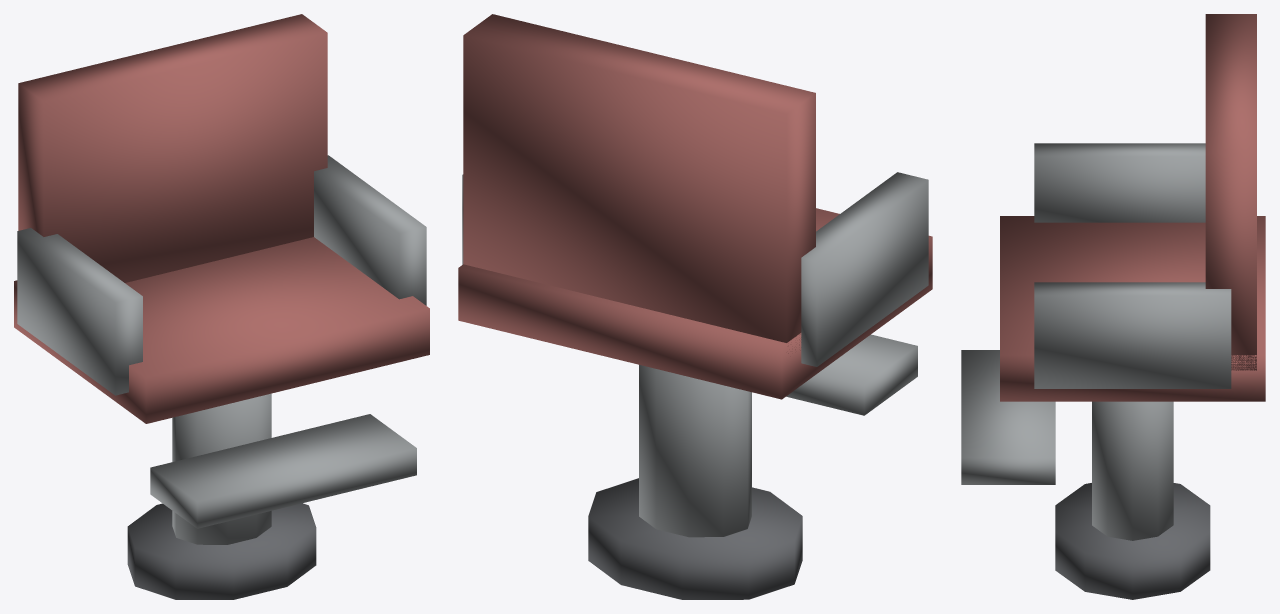
Rendered from barber_chair__wide.glb.
3 renders of one model, left to right at view 1: azimuth 30°, elevation 25°; view 2: azimuth 150°, elevation 25°; view 3: azimuth 270°, elevation 25°, orthographic. The views are drawn at different scales.
Visible parts, largest first — view 1: world; view 2: world; view 3: world.
Part boxes in pixels (x1,y1,x2,y2): world: [14, 14, 429, 599]; world: [458, 14, 932, 599]; world: [961, 14, 1265, 599].
Bounding box in the file's own units: 0.8432 × 1.22 × 0.71.
